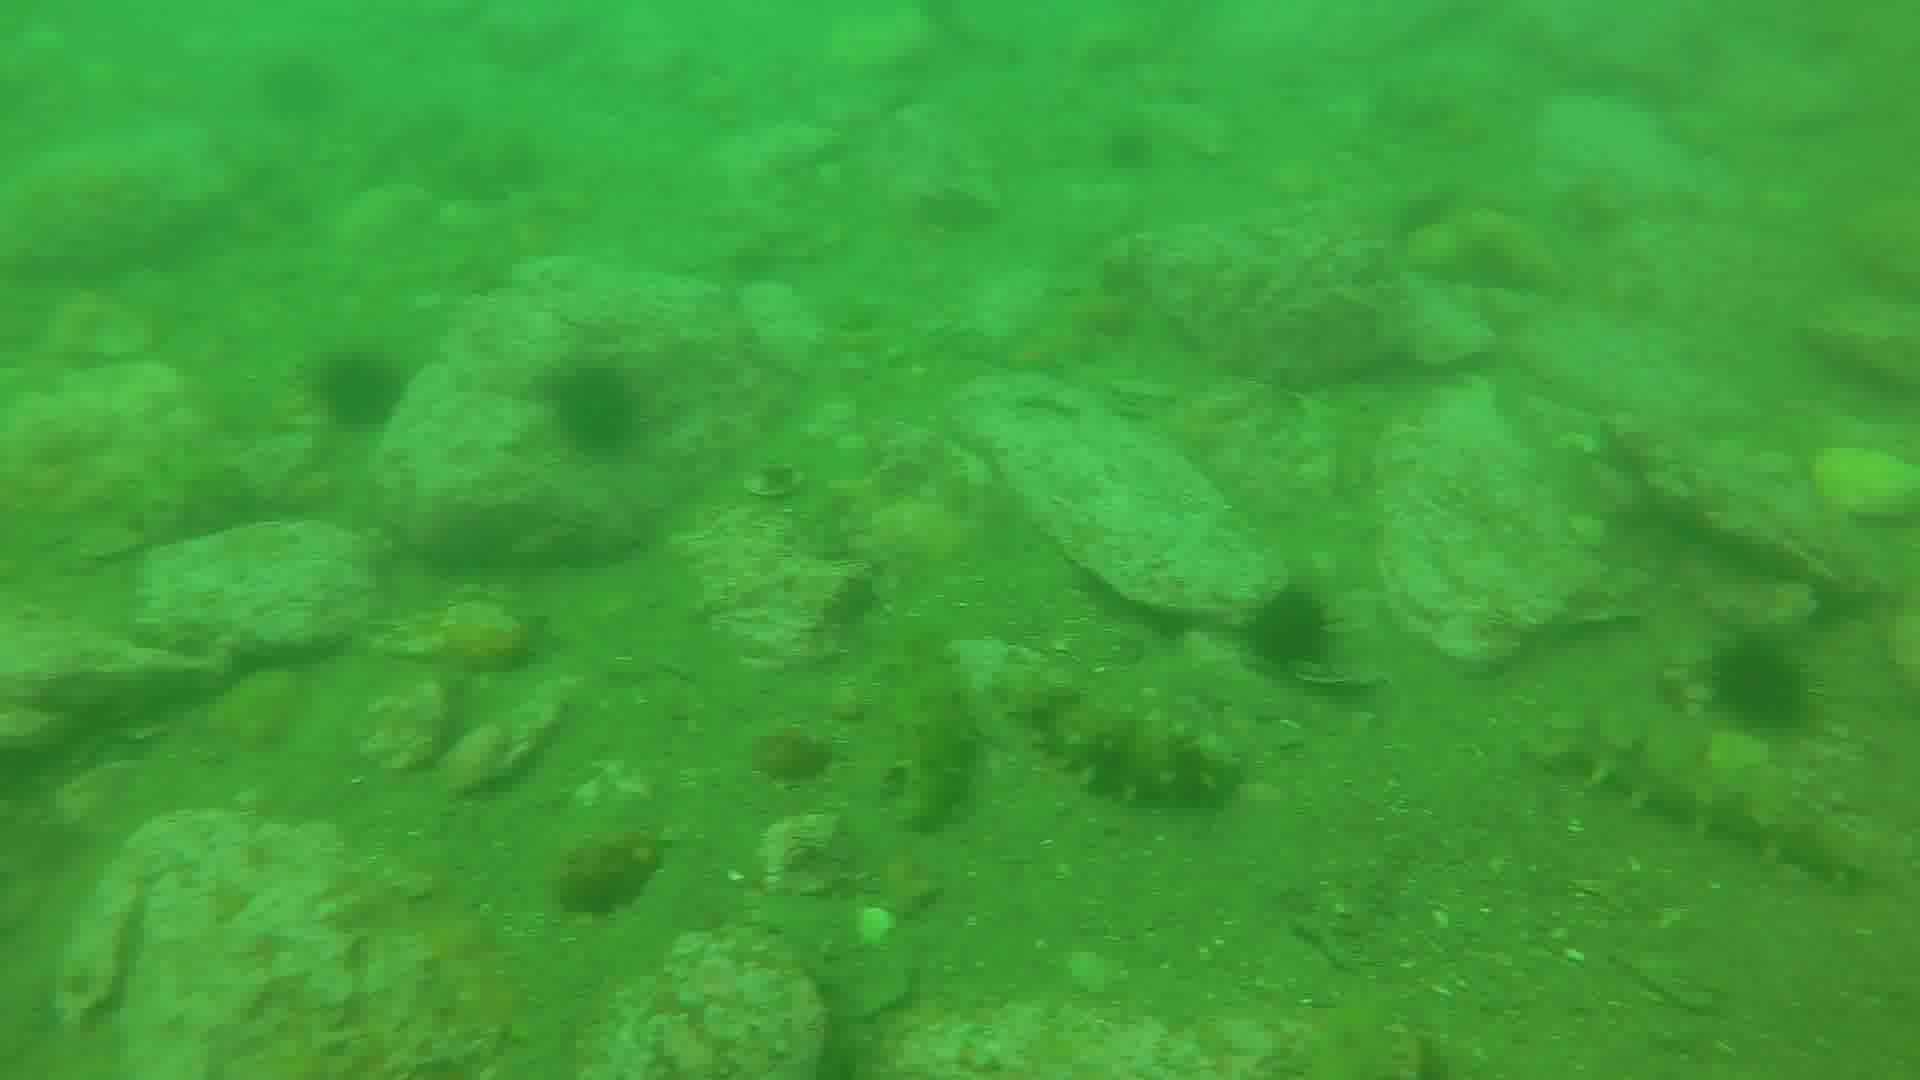echinus: (1702, 633, 1818, 738), (541, 355, 647, 462), (1237, 583, 1340, 676), (307, 345, 410, 435), (255, 51, 340, 125), (1098, 120, 1162, 178)
holothurian: (1536, 703, 1876, 895), (1009, 678, 1242, 818), (873, 626, 984, 837)
